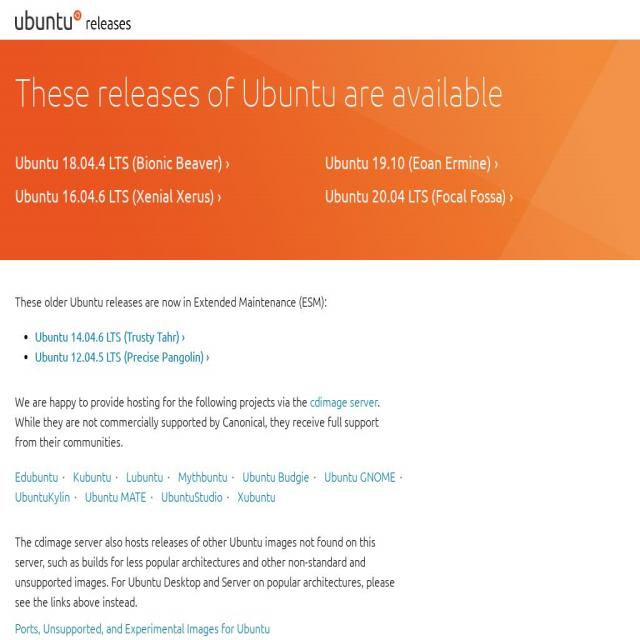navigation-links: (9, 147, 524, 213), (14, 456, 414, 506), (18, 326, 216, 376), (6, 618, 279, 638)
